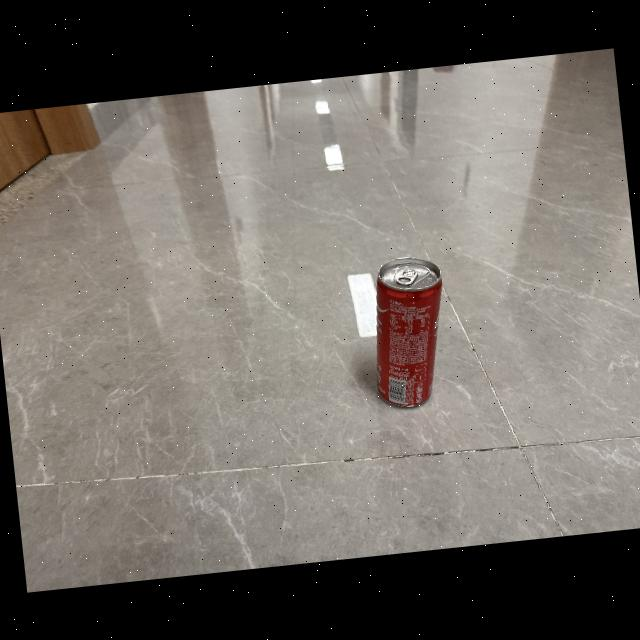Cola: (354, 245, 464, 423)
